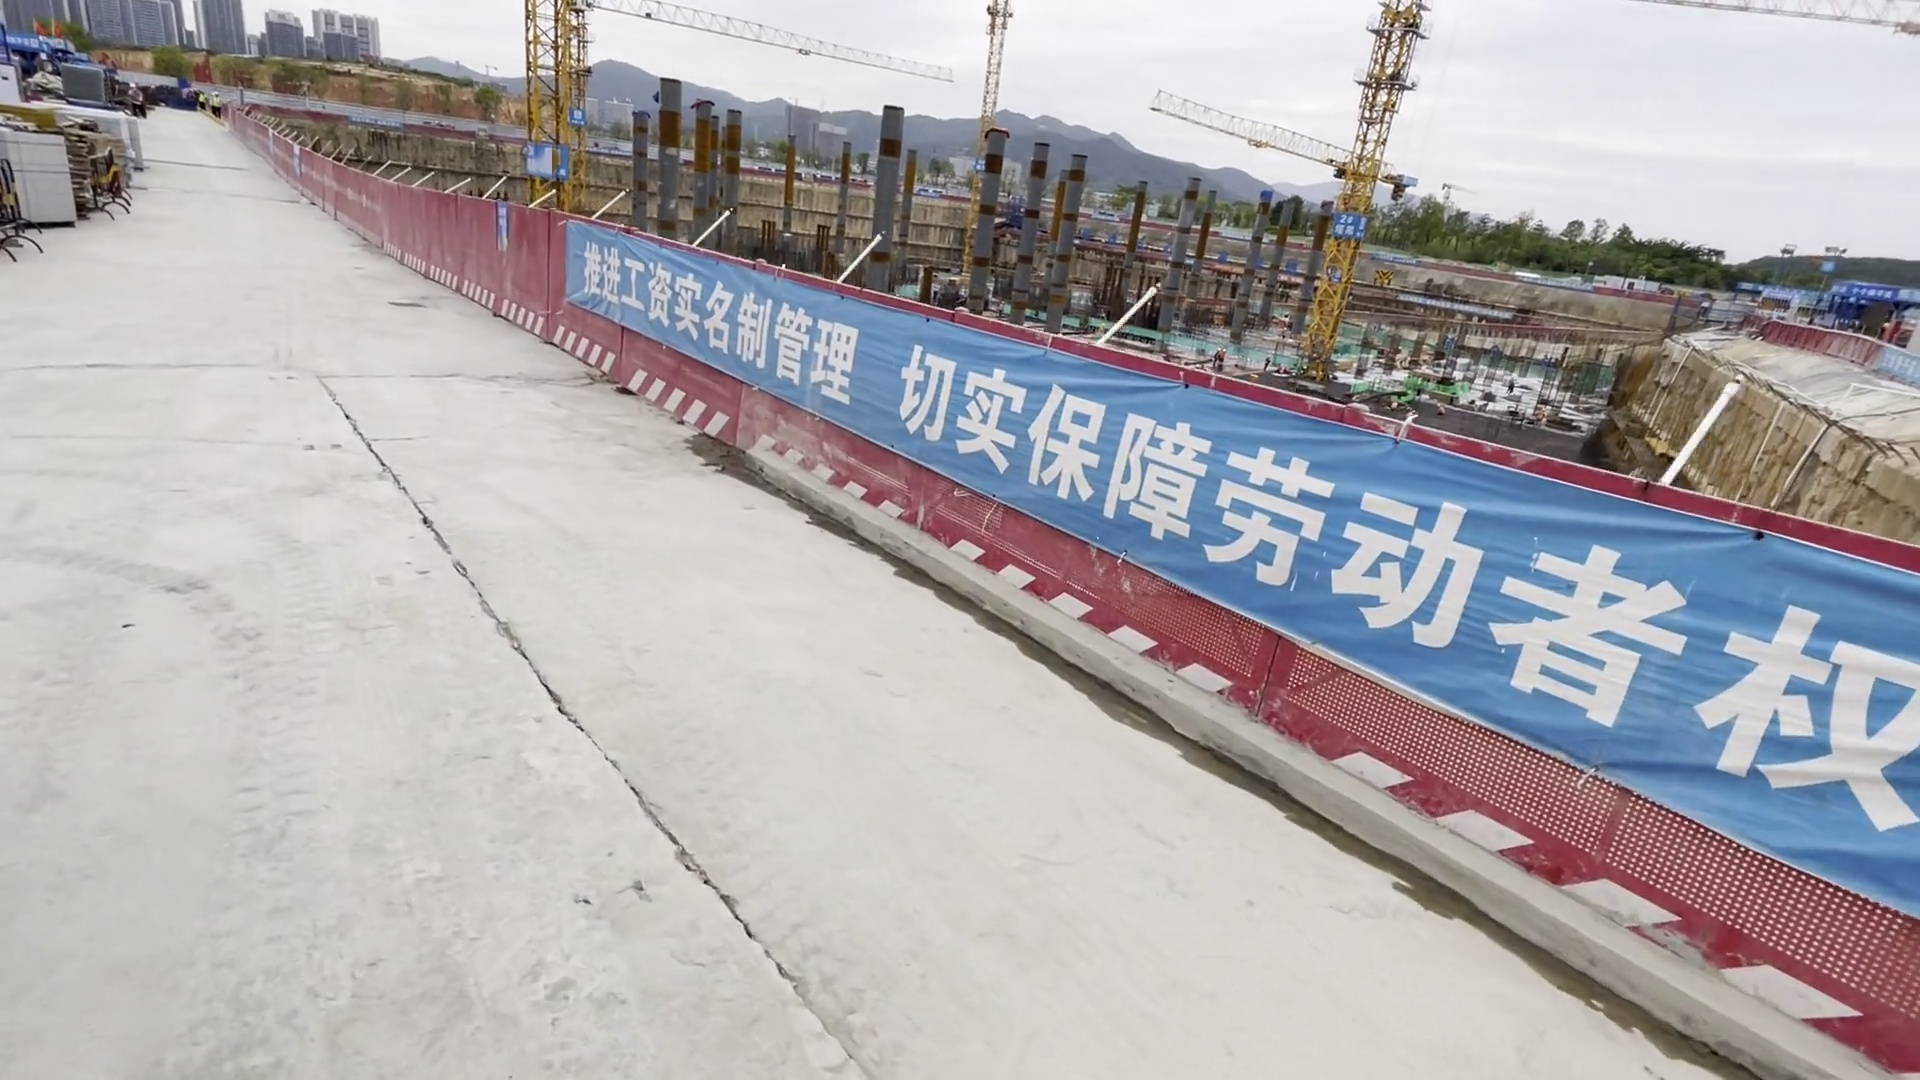brick: (1, 131, 78, 232)
fence: (553, 237, 1911, 1038), (214, 88, 570, 345)
slogan: (564, 218, 1920, 930)
